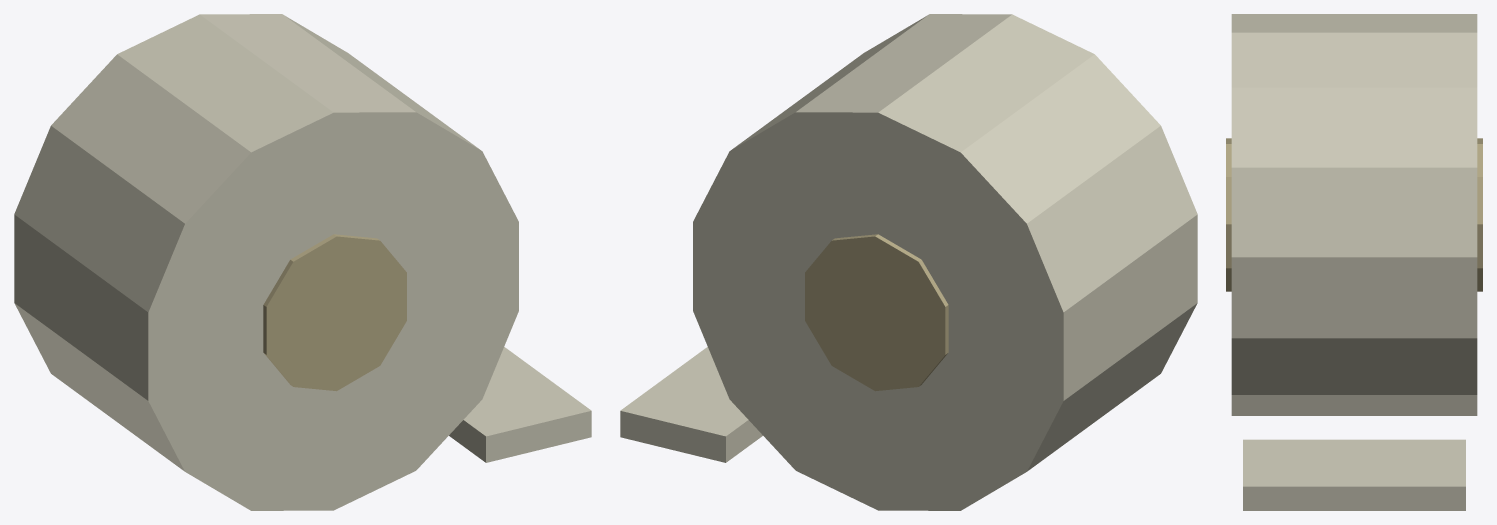
File: Item_Bandage.fbx
3 views of the same model, side by side, from view 1: azimuth 30°, elevation 25°; view 2: azimuth 150°, elevation 25°; view 3: azimuth 270°, elevation 25° (orthographic). The views are drawn at different scales.
Visible parts, largest first — view 1: Item_Bandage; view 2: Item_Bandage; view 3: Item_Bandage.
Boxes of the visible parts, left/top/right/bottom form: Item_Bandage: left=14, top=14, right=591, bottom=510; Item_Bandage: left=620, top=14, right=1197, bottom=510; Item_Bandage: left=1226, top=14, right=1482, bottom=510.
Size of the model in its own units: 0.2127 by 0.18 by 0.115.
